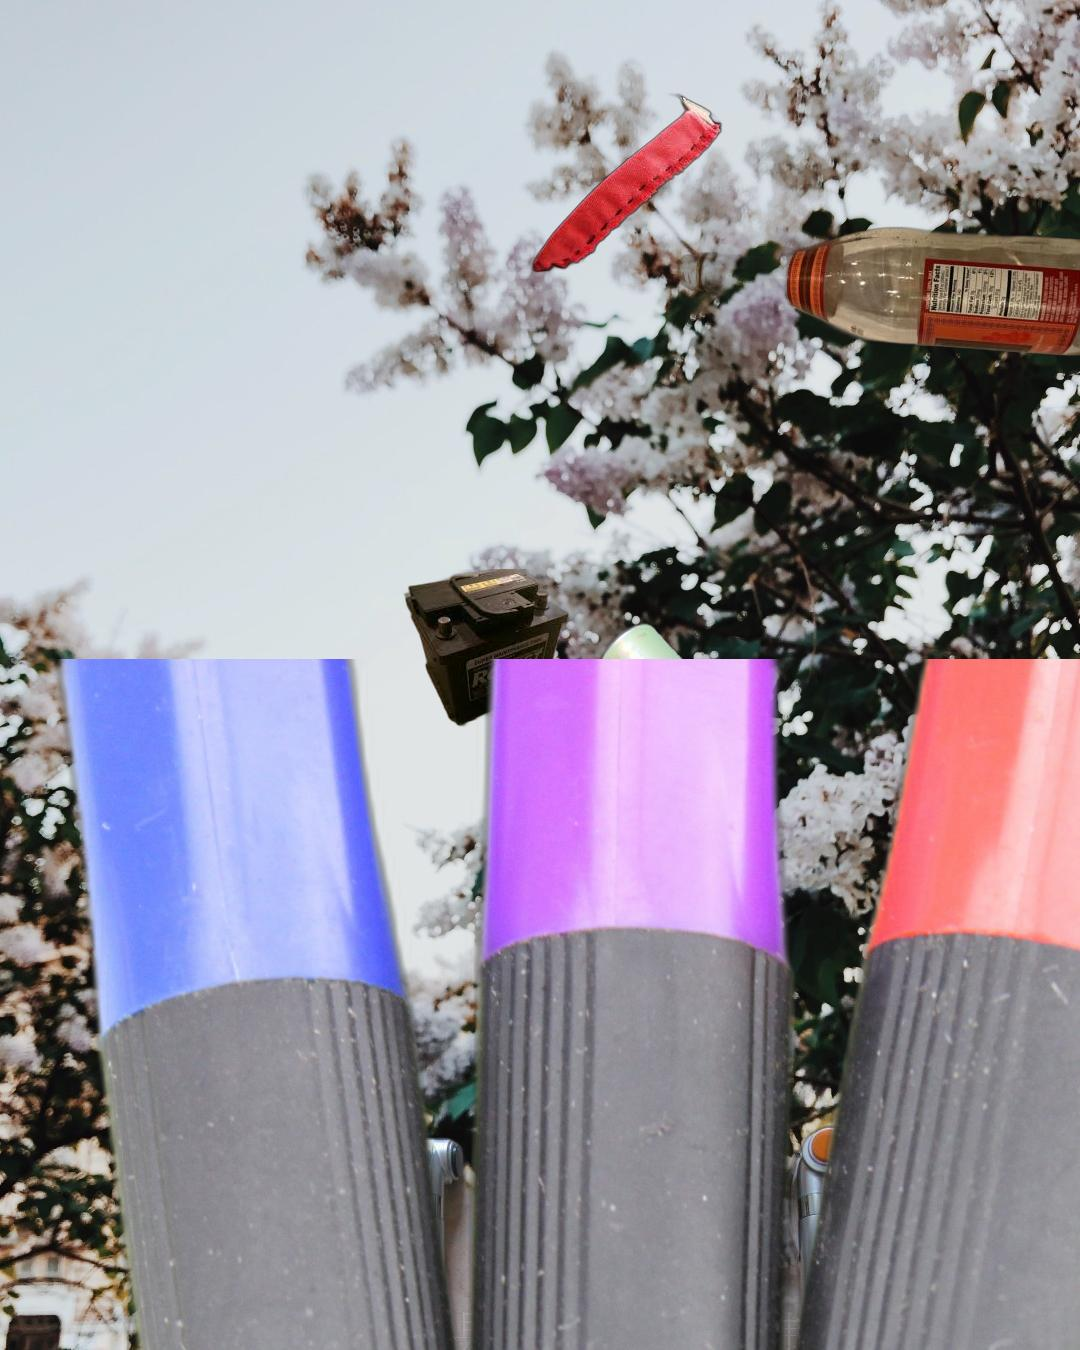battery: (402, 569, 571, 730)
biological: (905, 1332, 1080, 1350)
glass: (673, 219, 1080, 359)
metal-cans: (397, 618, 909, 1054)
penholder: (43, 659, 1080, 1350), (391, 1110, 955, 1350)
shoes: (530, 87, 724, 276)
trash: (123, 1271, 344, 1350)
